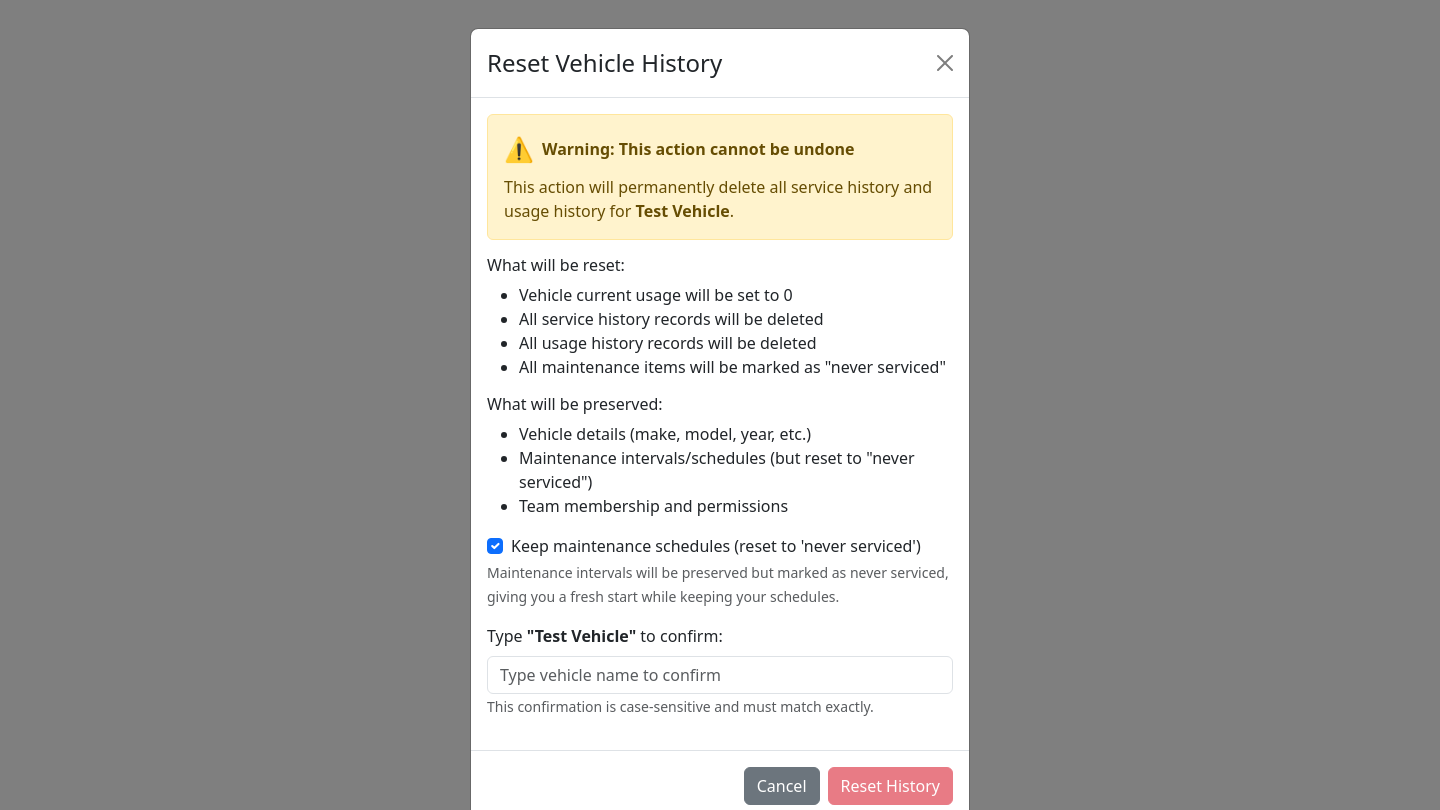
ResetVehicleHistoryModal › Reset Functionality › should show success message after successful reset
Step 1. Type "Test Vehicle" into the field with placeholder "Type vehicle name to confirm" → [720, 675], box [487,656,953,694]
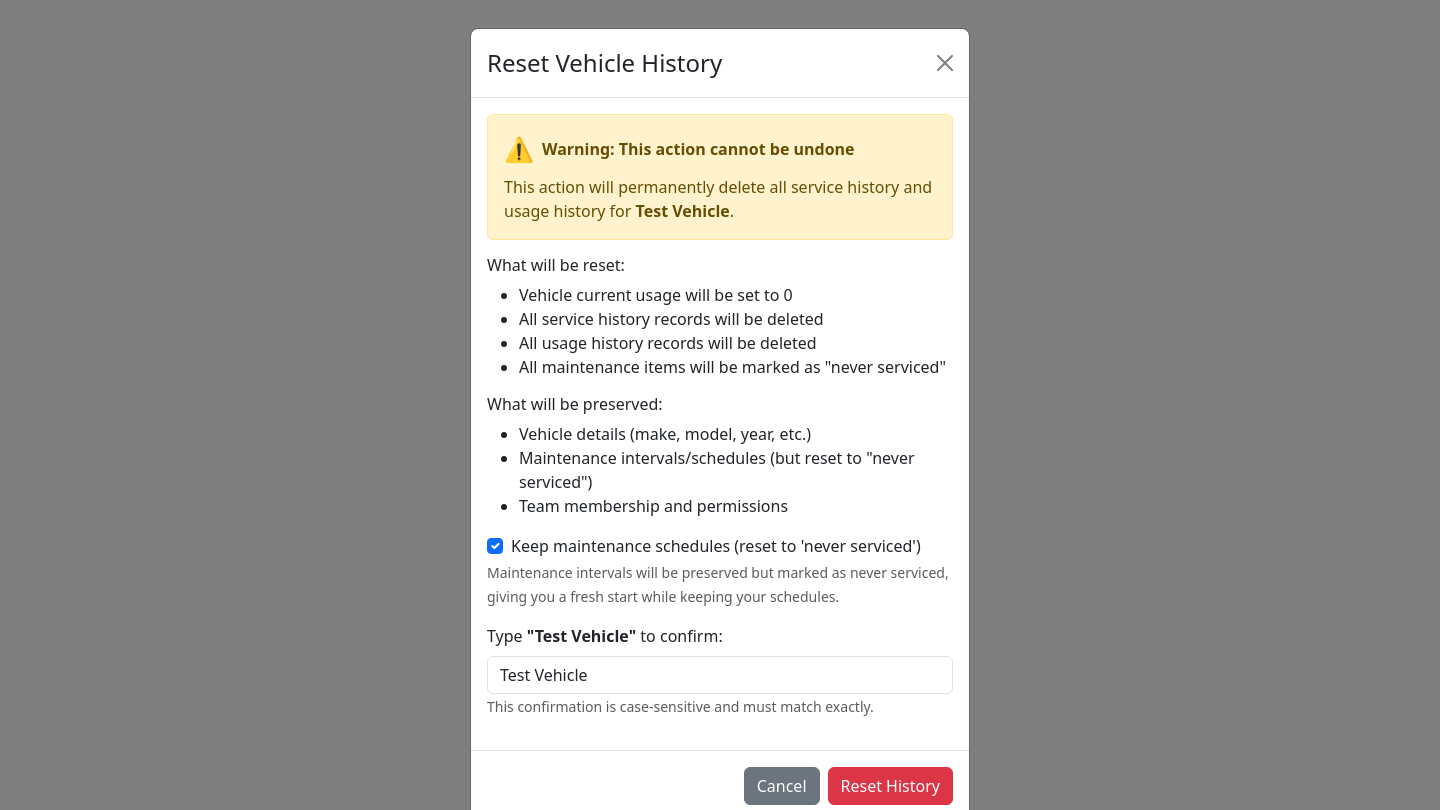
Step 2. Click the button "Reset History" → [890, 786], box [828,767,953,805]
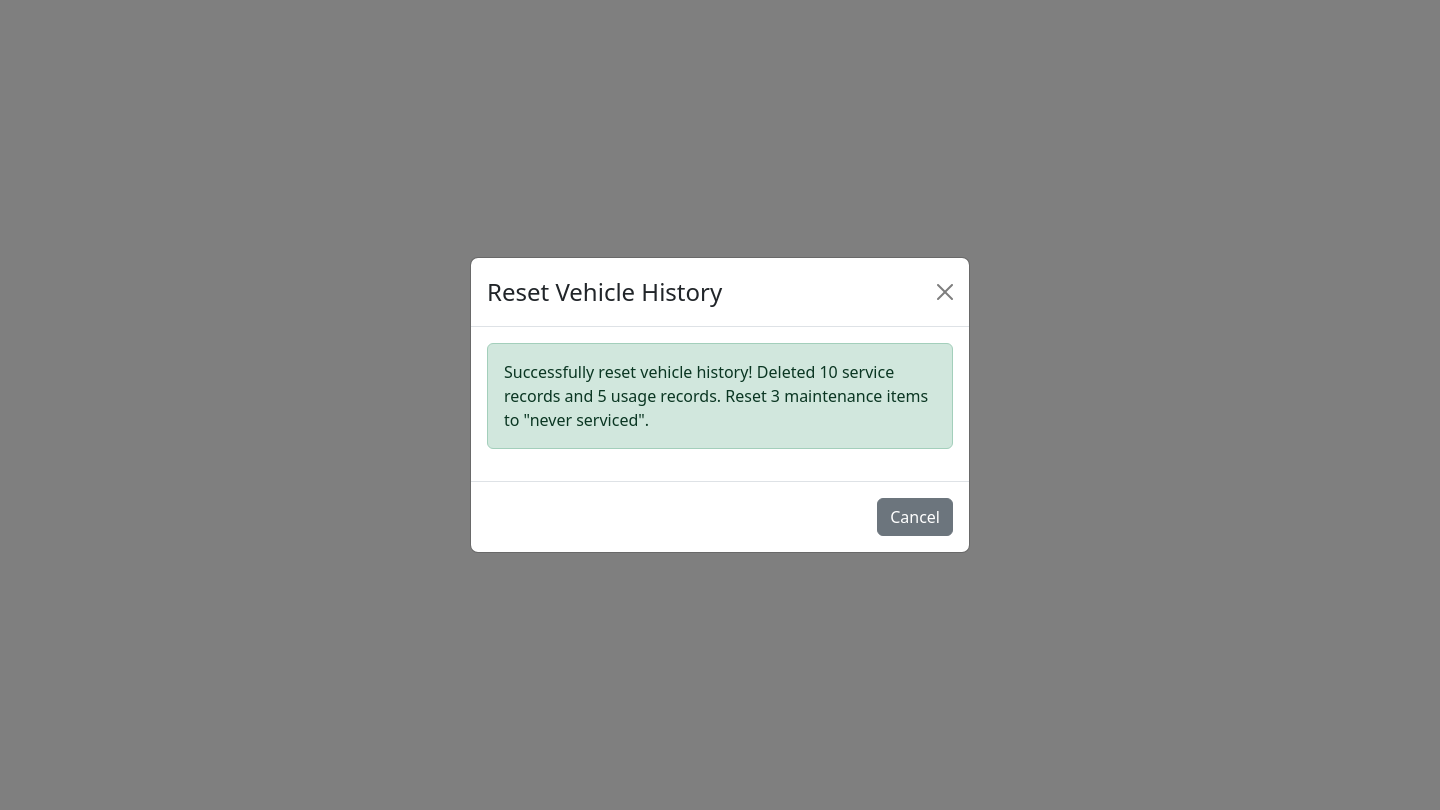
Expected: the text "Successfully reset vehicle history" is shown, [504,361,928,431]
